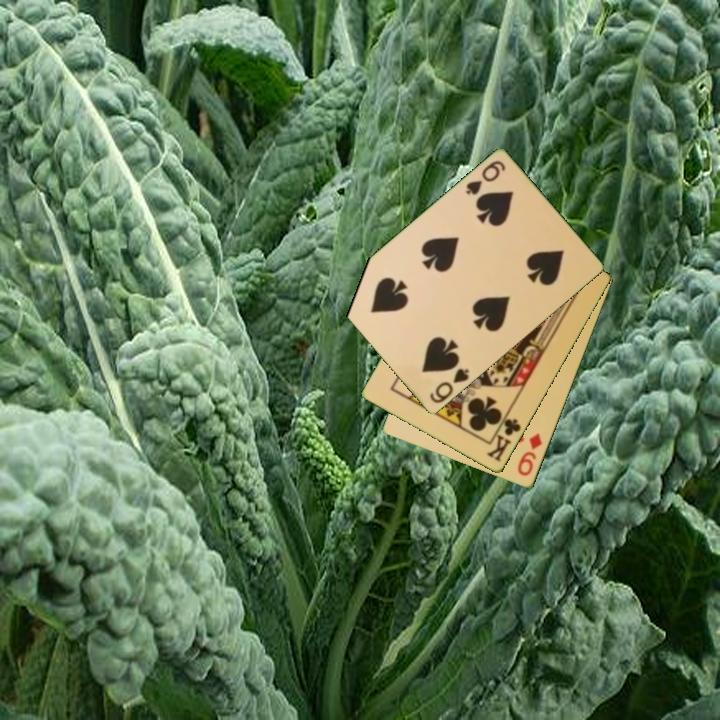6s: (426, 365, 472, 407), (462, 157, 508, 199)
9d: (514, 429, 545, 479)
Kc: (483, 409, 524, 465)
